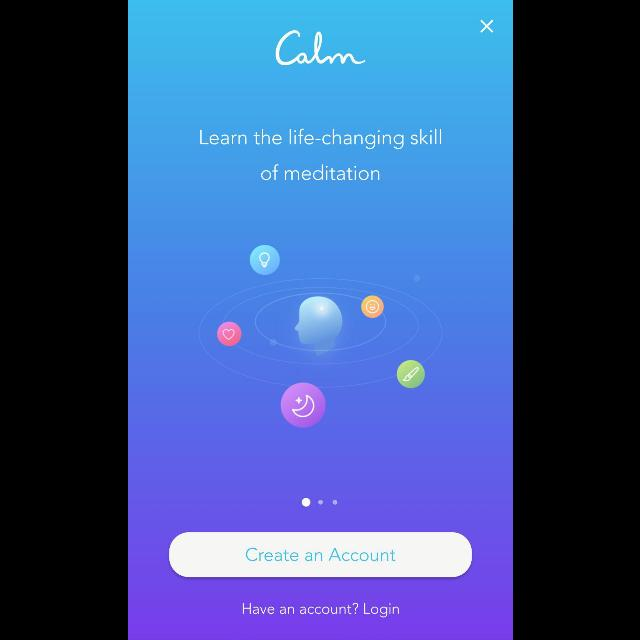icon: (479, 21, 493, 34)
image: (198, 244, 442, 428), (274, 30, 366, 66)
pageindicator: (300, 498, 338, 507)
text: (199, 128, 441, 182), (242, 602, 398, 618)
textbutton: (168, 532, 472, 578)
